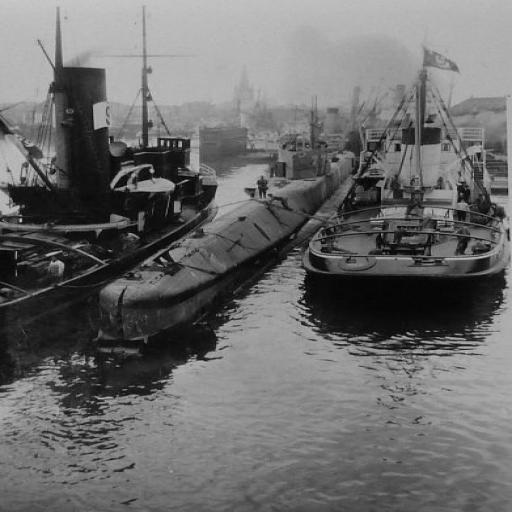submarine: (98, 143, 357, 349)
